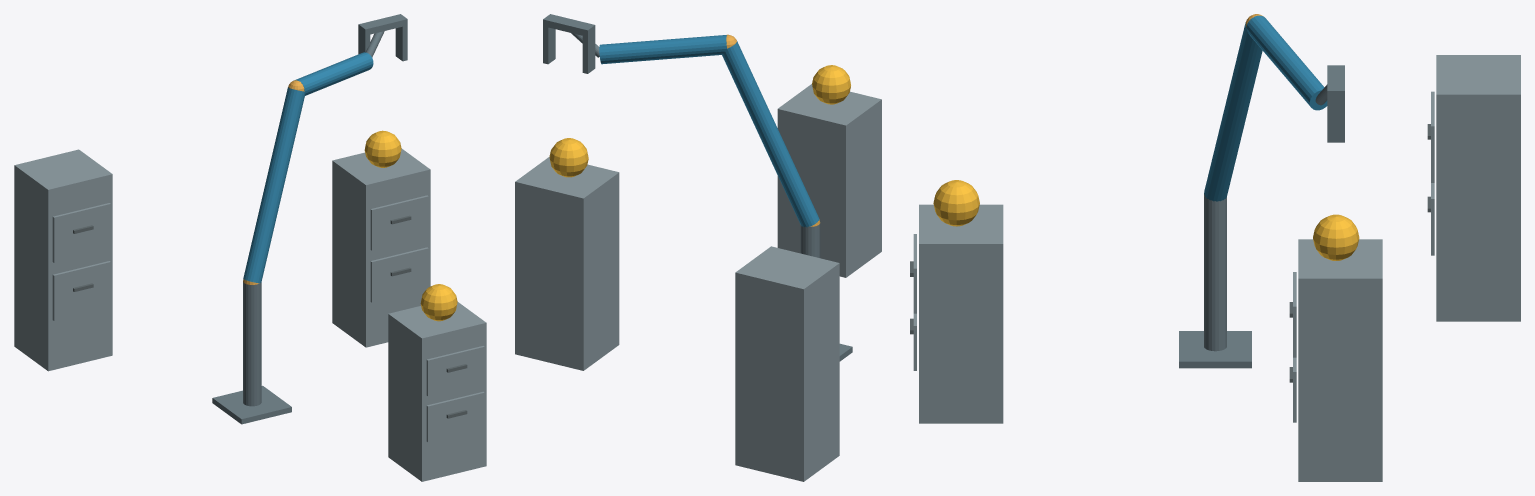
The picture shows the model from 3 angles, left to right: view 1: azimuth 30°, elevation 25°; view 2: azimuth 150°, elevation 25°; view 3: azimuth 270°, elevation 25°; orthographic projection. The views are drawn at different scales.
Parts seen in each view (by area): view 1: cabinet_3 body, cabinet_2 body, cabinet_1 body, moving link 1, cabinet_3 drawer front, cabinet_3 drawer front.001, cabinet_2 drawer front.001, cabinet_2 drawer front, fixed post, cabinet_1 drawer front, cabinet_1 drawer front.001, pedestal (+4 smaller); view 2: cabinet_3 body, cabinet_2 body, cabinet_1 body, moving link 1, moving link 2, ball ball_2, released ball_1, gripper bridge, fixed post, gripper finger -1, gripper finger 1; view 3: cabinet_3 body, cabinet_2 body, cabinet_1 body, moving link 1, fixed post, moving link 2, pedestal, released ball_1, ball ball_2, gripper finger 1.
Part boxes in pixels (x1=…): cabinet_3 body: x1=14, y1=149, x2=112, y2=371; cabinet_2 body: x1=332, y1=148, x2=430, y2=347; cabinet_1 body: x1=388, y1=302, x2=486, y2=481; moving link 1: x1=243, y1=87, x2=305, y2=283; cabinet_3 drawer front: x1=52, y1=261, x2=110, y2=320; cabinet_3 drawer front.001: x1=52, y1=203, x2=110, y2=262; cabinet_2 drawer front.001: x1=370, y1=195, x2=428, y2=250; cabinet_2 drawer front: x1=370, y1=247, x2=428, y2=302; fixed post: x1=243, y1=282, x2=261, y2=406; cabinet_1 drawer front: x1=426, y1=391, x2=484, y2=442; cabinet_1 drawer front.001: x1=426, y1=346, x2=484, y2=396; pedestal: x1=212, y1=385, x2=291, y2=424; cabinet_3 body: x1=735, y1=246, x2=839, y2=481; cabinet_2 body: x1=515, y1=157, x2=619, y2=370; cabinet_1 body: x1=777, y1=84, x2=881, y2=277; moving link 1: x1=722, y1=41, x2=819, y2=227; moving link 2: x1=599, y1=35, x2=726, y2=64; ball ball_2: x1=549, y1=138, x2=588, y2=177; released ball_1: x1=812, y1=65, x2=850, y2=104; gripper bridge: x1=543, y1=14, x2=595, y2=36; fixed post: x1=800, y1=223, x2=820, y2=257; gripper finger -1: x1=582, y1=32, x2=595, y2=73; gripper finger 1: x1=543, y1=26, x2=555, y2=64; cabinet_3 body: x1=1436, y1=55, x2=1520, y2=321; cabinet_2 body: x1=1298, y1=239, x2=1382, y2=481; cabinet_1 body: x1=919, y1=204, x2=1003, y2=423; moving link 1: x1=1204, y1=22, x2=1262, y2=201; fixed post: x1=1204, y1=195, x2=1226, y2=351; moving link 2: x1=1246, y1=15, x2=1327, y2=110; pedestal: x1=1179, y1=331, x2=1251, y2=368; released ball_1: x1=933, y1=180, x2=979, y2=226; ball ball_2: x1=1313, y1=214, x2=1359, y2=260; gripper finger 1: x1=1327, y1=99, x2=1344, y2=142.
Size of the model in its own units: 1.62 by 1.46 by 2.1.
